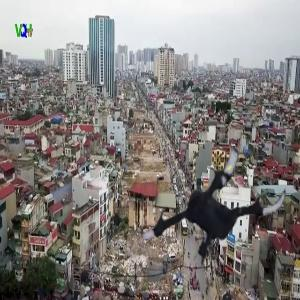drone: (135, 124, 291, 280)
